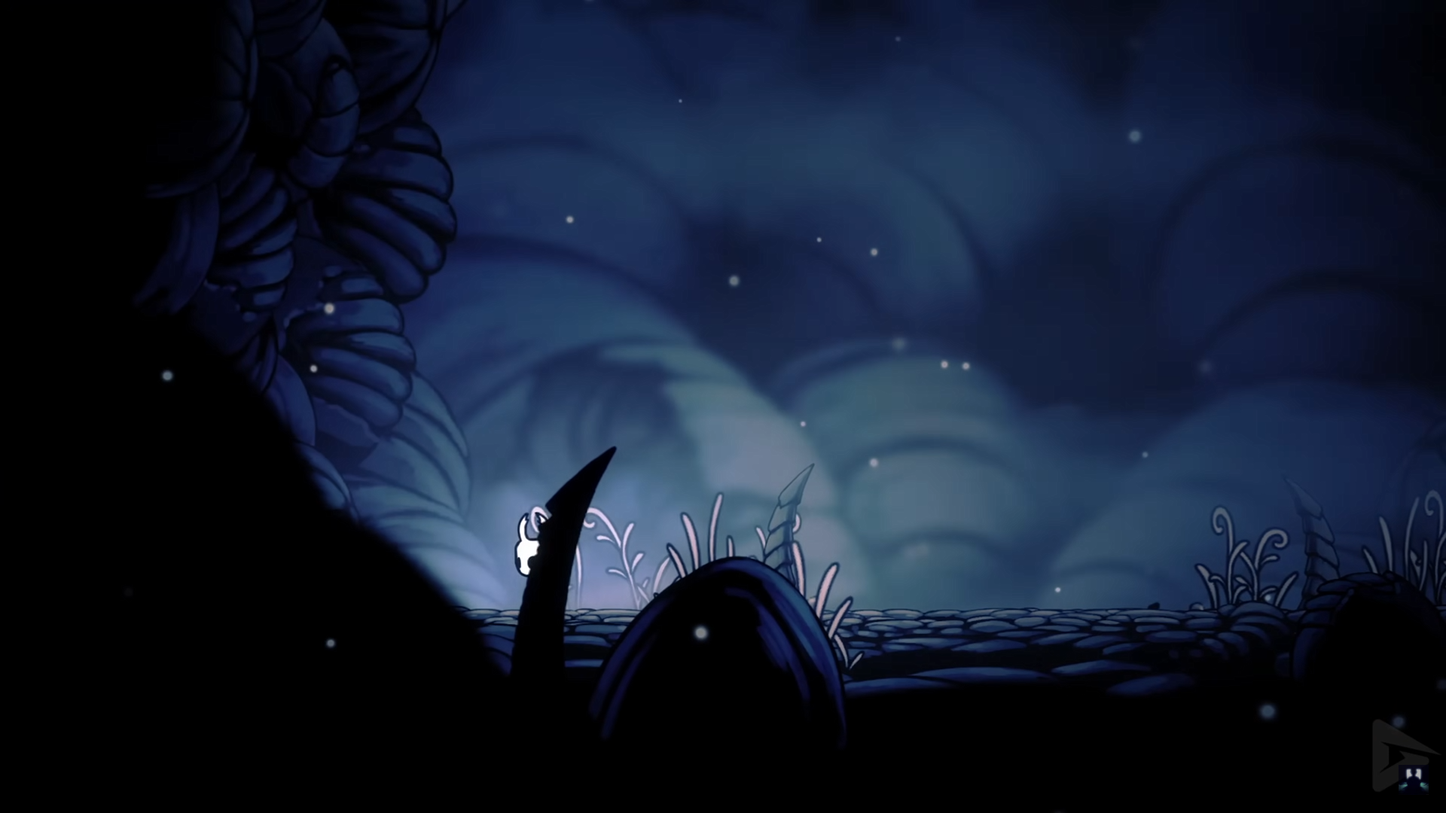HK: (509, 506, 550, 611)
